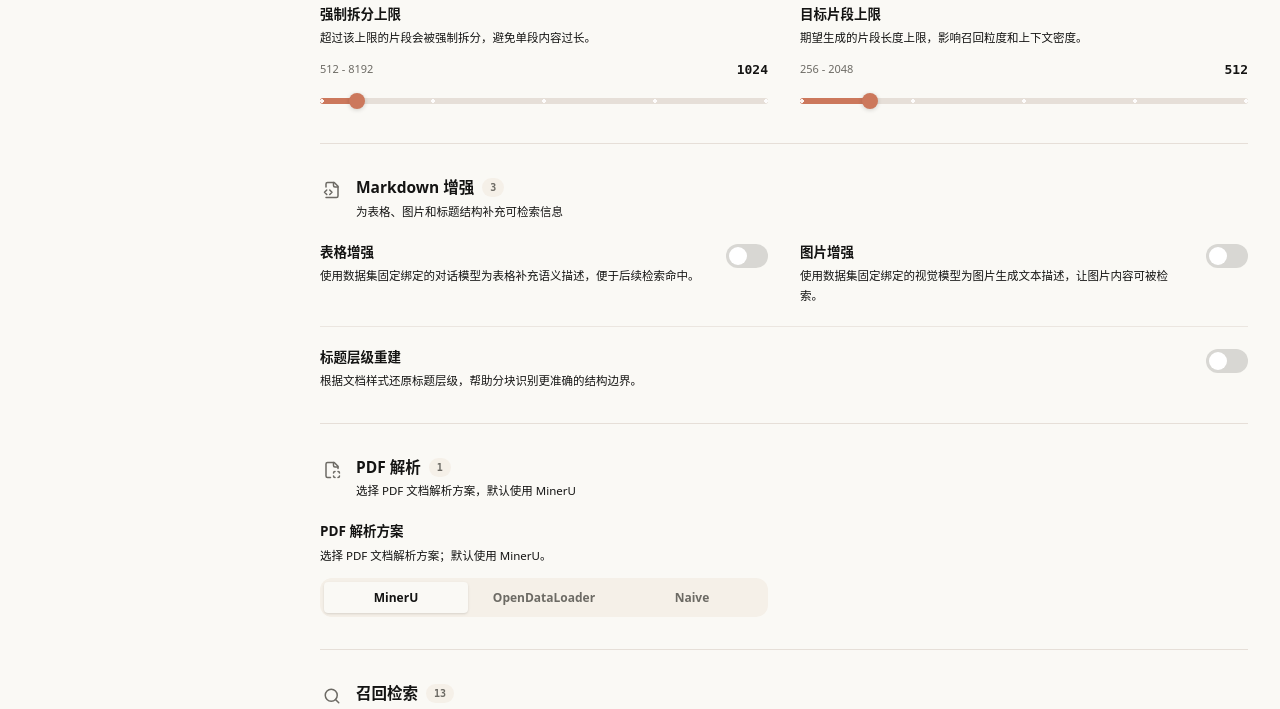
Test: dataset parse config model defaults › preselects the 标题层级重建 user default when the feature is enabled
This screenshot has width=1280, height=709.
(page scrolled)
expect the heading "Markdown 增强" is shown: met, box [356,176,474,200]
Click the button named "标题层级重建": (1227, 361) [1206,349,1248,373]
(page scrolled)
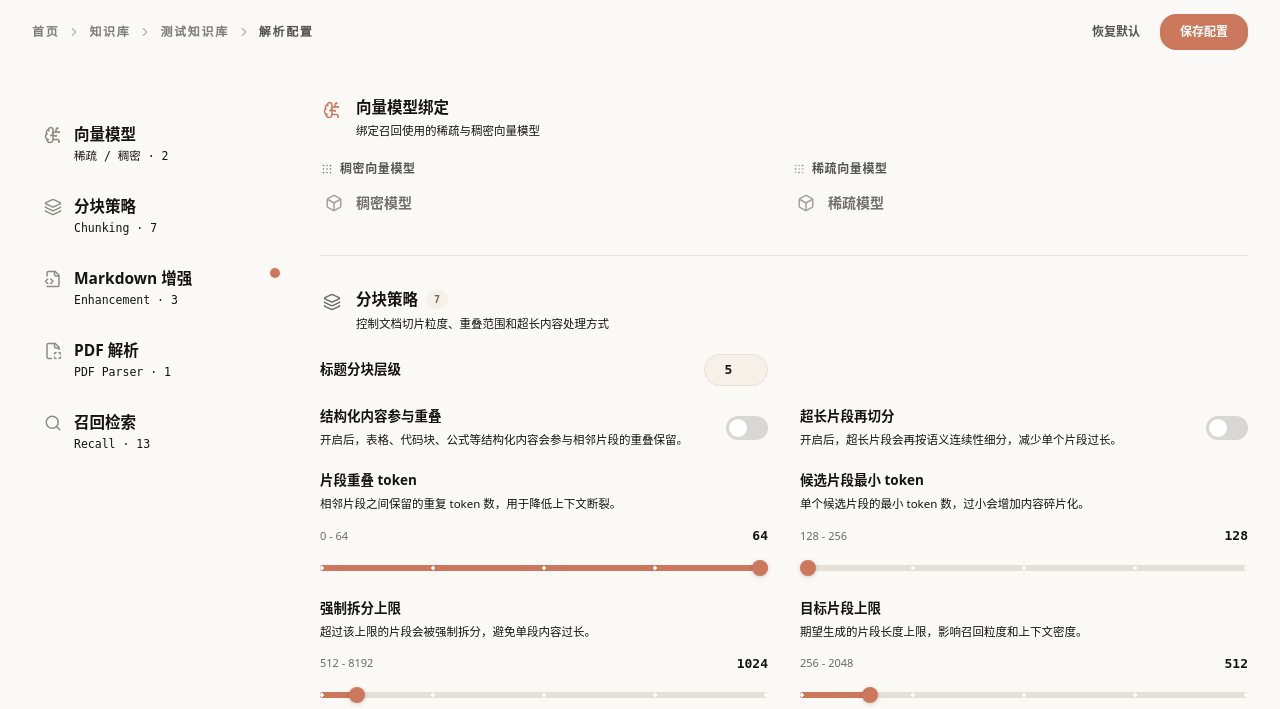
expect the button "保存配置" is enabled: met, box [1160,14,1248,50]
